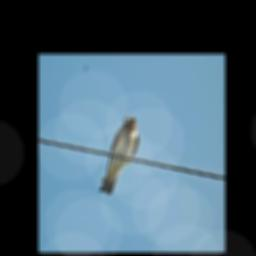Swallow: (97, 113, 139, 195)
